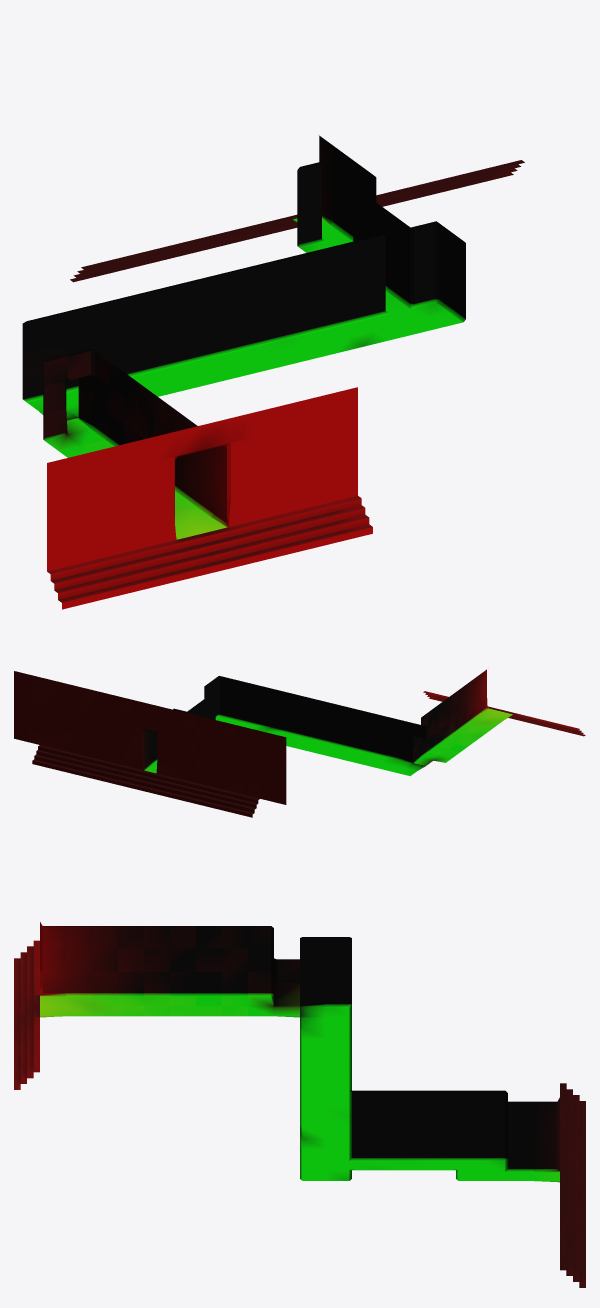
File: transition_2.glb
The picture shows the model from 3 angles, top to bottom: view 1: azimuth 30°, elevation 25°; view 2: azimuth 150°, elevation 25°; view 3: azimuth 270°, elevation 25°; orthographic projection. The views are drawn at different scales.
Visible parts, largest first — view 1: ForestPart, CastlePart, CastleStairs, ForestStairs; view 2: ForestPart, ForestStairs, CastlePart, CastleStairs; view 3: ForestPart, CastlePart, ForestStairs, CastleStairs.
Boxes of the visible parts, <box> form: ForestPart: <box>22,135,465,420</box>; CastlePart: <box>43,349,357,571</box>; CastleStairs: <box>47,495,372,609</box>; ForestStairs: <box>70,160,524,282</box>; ForestPart: <box>14,671,425,804</box>; ForestStairs: <box>32,745,259,817</box>; CastlePart: <box>413,669,513,765</box>; CastleStairs: <box>423,691,585,736</box>; ForestPart: <box>300,937,559,1182</box>; CastlePart: <box>40,922,299,1017</box>; ForestStairs: <box>560,1083,585,1287</box>; CastleStairs: <box>14,940,39,1089</box>.
Size of the model in its own units: 32 by 6 by 22.
